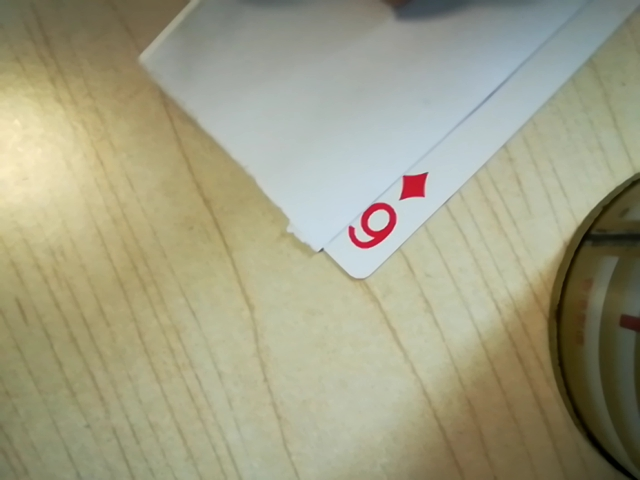fk 6: (337, 168, 431, 258)
